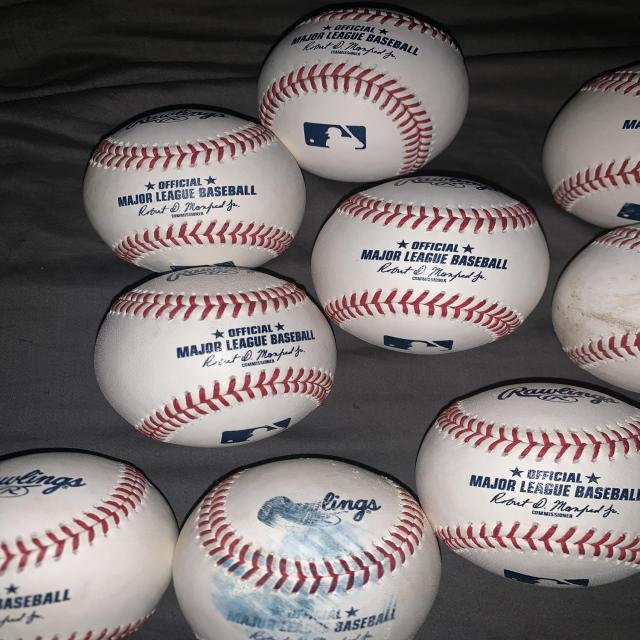baseball: (415, 377, 639, 585), (91, 267, 342, 448), (176, 454, 442, 618), (308, 174, 551, 352), (82, 105, 308, 268), (257, 6, 470, 178), (3, 449, 182, 618)
